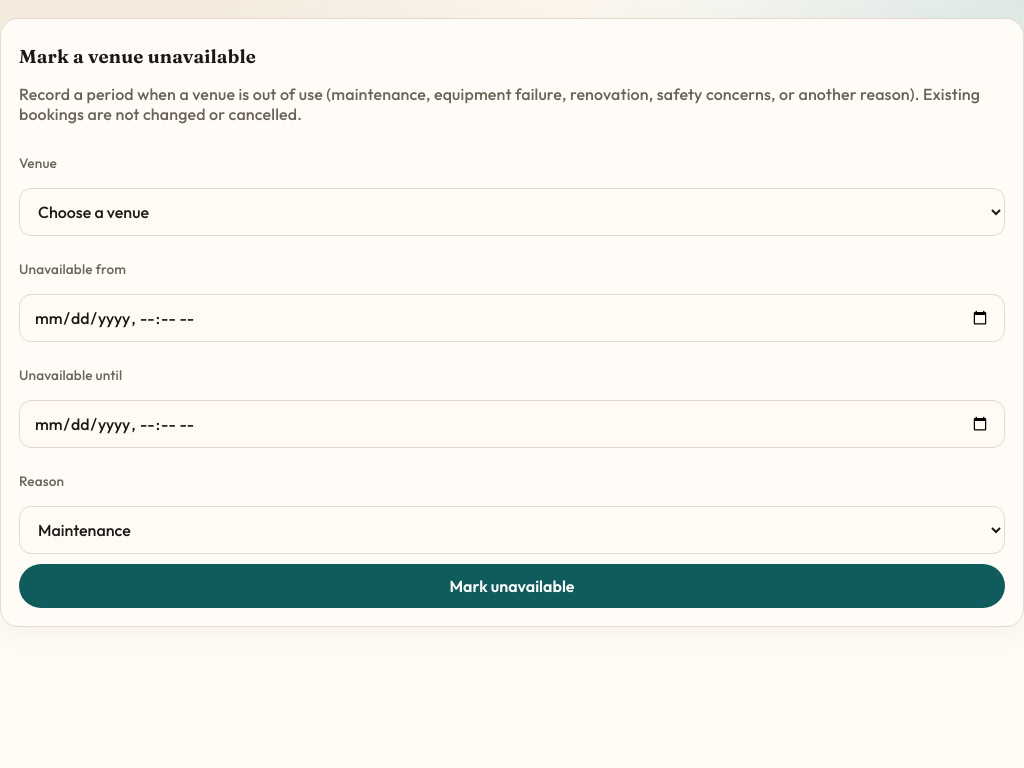
Test: SCRUM-72 BlockVenueCard › sends the venue, period and reason (as ISO) to the unavailability route
Select "Hall A" in the dropdown labelled "Venue": (512, 212) [19,188,1005,236]
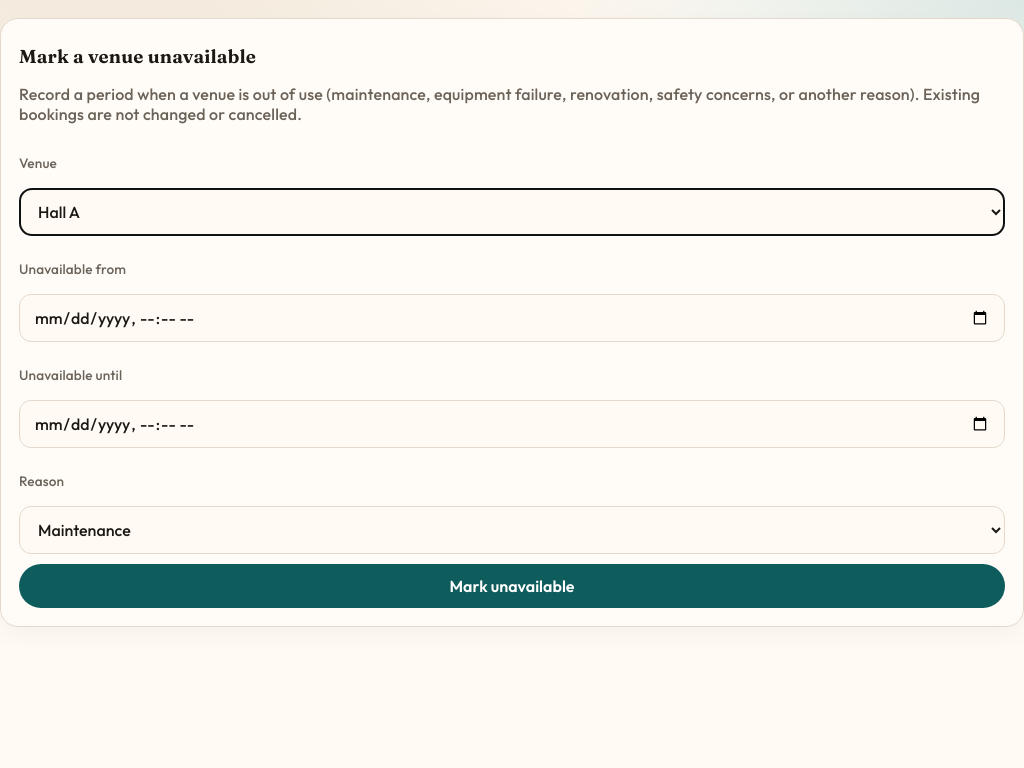
In the field labelled "Unavailable from": (512, 318) [19,294,1005,342], type "2026-11-18T09:00"
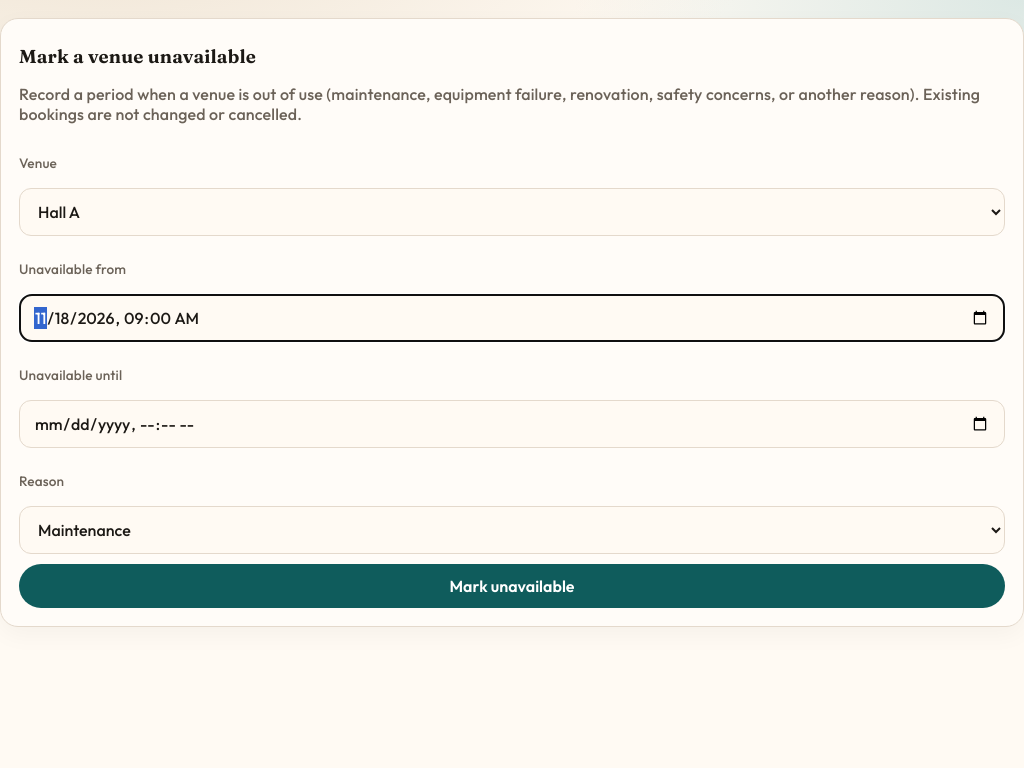
In the field labelled "Unavailable until": (512, 424) [19,400,1005,448], type "2026-11-18T17:00"
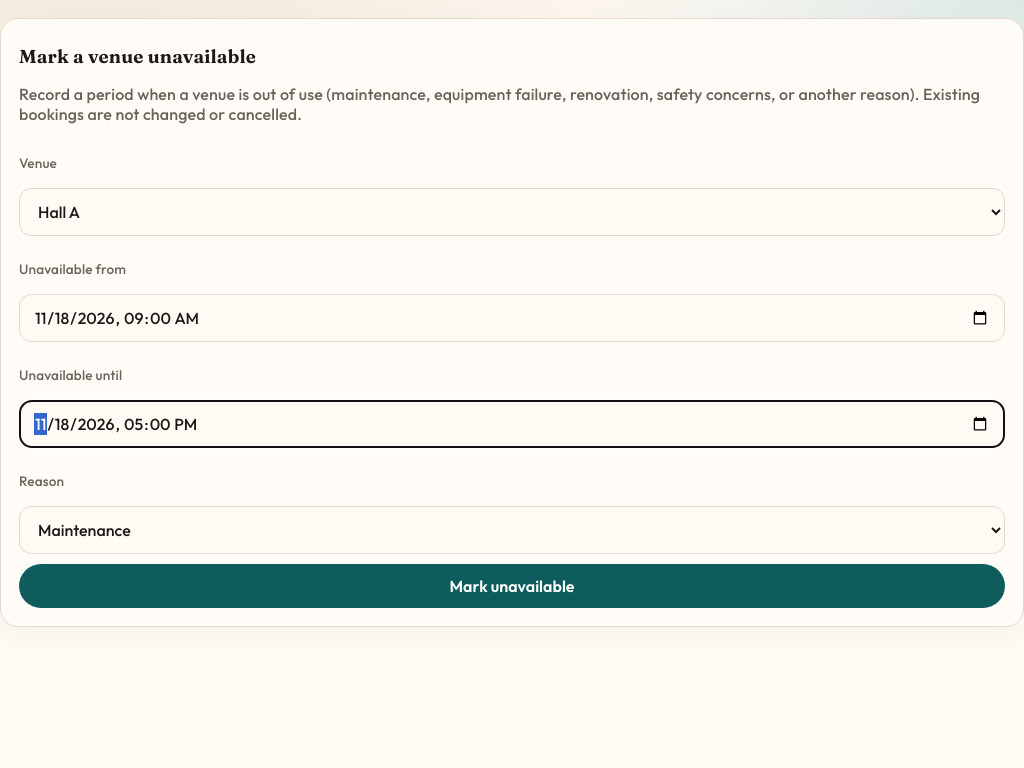
Click the button "Mark unavailable": (512, 586) [19,564,1005,608]
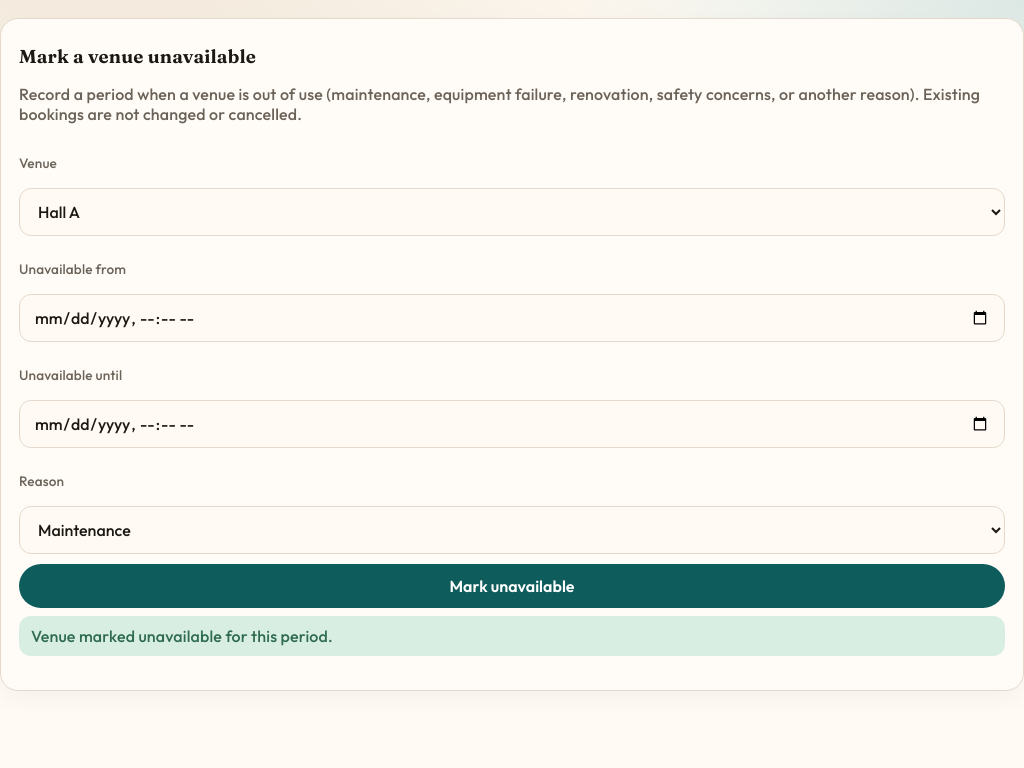
Now the text "Venue marked unavailable for this period." is shown, box [19,616,1005,656]
